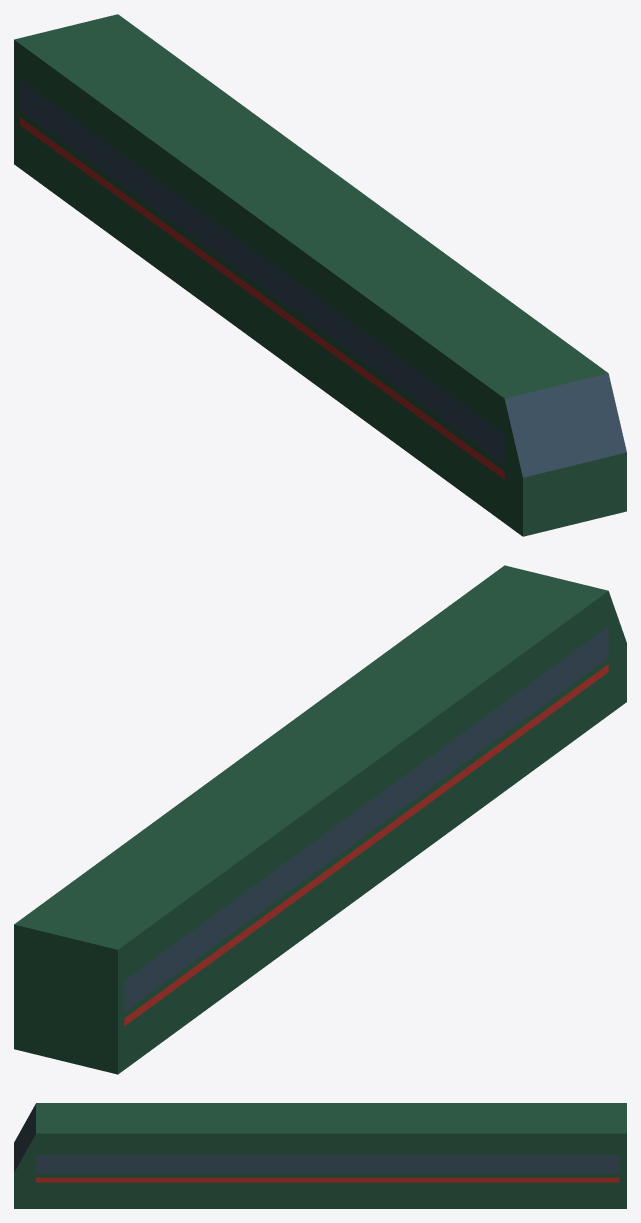
File: 330_far.fbx
3 views of the same model, one above another, from view 1: azimuth 30°, elevation 25°; view 2: azimuth 150°, elevation 25°; view 3: azimuth 270°, elevation 25° (orthographic). The views are drawn at different scales.
Parts seen in each view (by area): view 1: 330_far; view 2: 330_far; view 3: 330_far.
Part boxes in pixels (x1,y1,x2,y2): 330_far: (14,14,626,536); 330_far: (14,565,626,1074); 330_far: (14,1103,626,1208).
Size of the model in its own units: 2.96 by 3.38 by 25.
